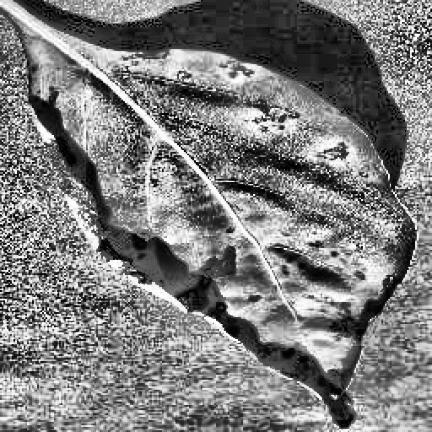leaf: (0, 0, 415, 425)
